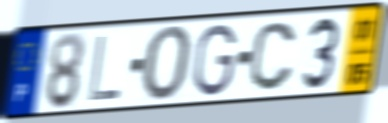3: (300, 14, 341, 93)
8: (44, 29, 87, 113)
C: (247, 19, 299, 93)
G: (191, 22, 239, 100)
L: (86, 33, 123, 104)
O: (140, 23, 195, 104)
